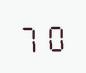seven: (19, 20, 42, 53)
zero: (43, 19, 66, 52)
